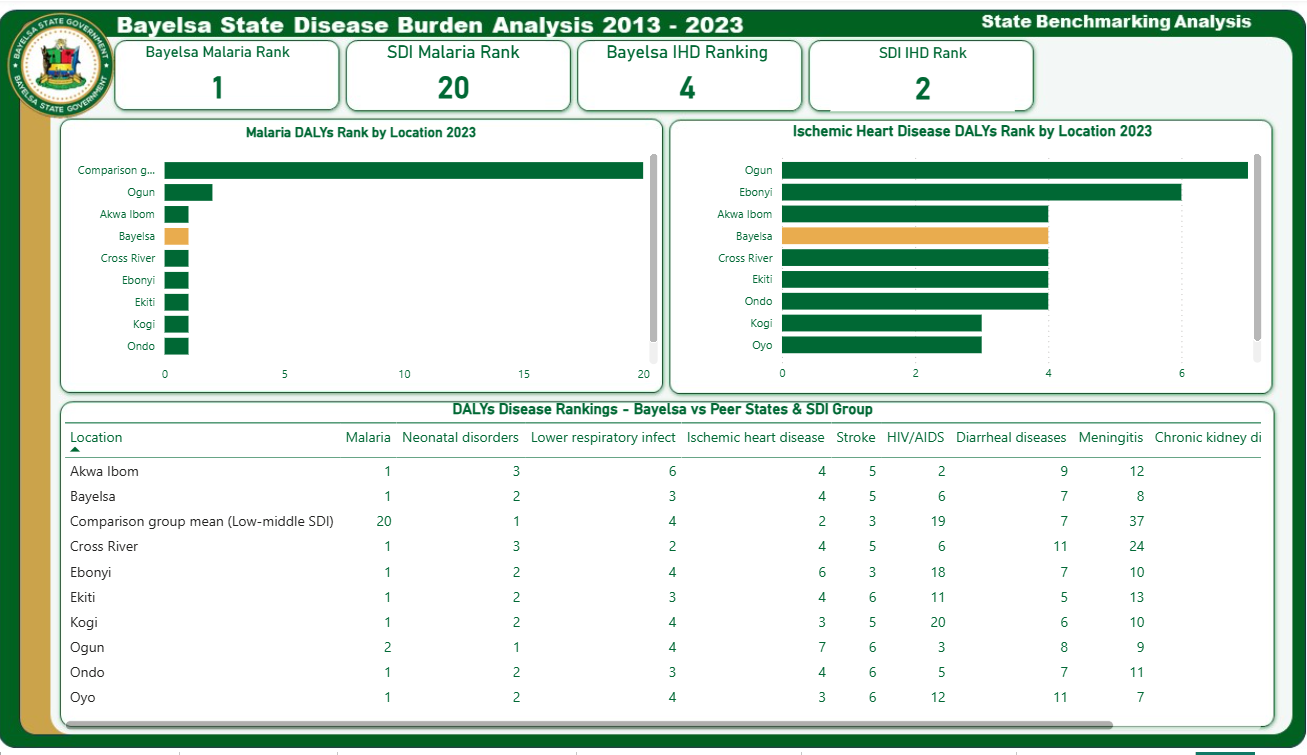

What the dashboard file says about the page in this screenshot:
{"tool":"powerbi","page":{"name":"State Benchmarking","canvas":[1280,720],"ordinal":3},"visuals":[{"type":"card","title":"Bayelsa Malaria Rank","fields":{"Values":["Benchmark_Comparison.Bayelsa Malaria Rank"]},"box":[128,43,176,64],"z":0},{"type":"card","title":"SDI Malaria Rank","fields":{"Values":["Benchmark_Comparison.SDI Malaria Rank"]},"box":[352,42,176,64],"z":1000},{"type":"card","title":"Bayelsa IHD Ranking","fields":{"Values":["Benchmark_Comparison.Bayelsa IHD Rank"]},"box":[576,42,176,64],"z":2000},{"type":"card","title":"SDI IHD Rank","fields":{"Values":["Benchmark_Comparison.SDI IHD Rank"]},"box":[800,44,176,64],"z":3000},{"type":"clusteredBarChart","title":"Malaria DALYs Rank by Location 2023","fields":{"Category":["Benchmark_Comparison.Location"],"Y":["Sum(Benchmark_Comparison.Malaria)"]},"box":[64,120,576,256],"z":4000},{"type":"clusteredBarChart","title":"Ischemic Heart Disease DALYs Rank by Location 2023","fields":{"Category":["Benchmark_Comparison.Location"],"Y":["Sum(Benchmark_Comparison.Ischemic heart disease)"]},"box":[656,119,561,256],"z":5000},{"type":"pivotTable","title":"DALYs Disease Rankings - Bayelsa vs Peer States & SDI Group","fields":{"Values":["Sum(Benchmark_Comparison.Malaria)","Sum(Benchmark_Comparison.Neonatal disorders)","Sum(Benchmark_Comparison.Lower respiratory infect)","Sum(Benchmark_Comparison.Ischemic heart disease)","Sum(Benchmark_Comparison.Stroke)","Sum(Benchmark_Comparison.HIV/AIDS)","Sum(Benchmark_Comparison.Diarrheal diseases)","Sum(Benchmark_Comparison.Meningitis)","Sum(Benchmark_Comparison.Chronic kidney disease)","Sum(Benchmark_Comparison.Tuberculosis)"],"Rows":["Benchmark_Comparison.Location"]},"box":[64,384,1152,320],"z":6000}]}

Visuals, with their boxes in screenshot pixels (x1, y1, x2, y2), scaled from the page's 1280x720 canvas onto the 1307x755 screenshot:
"Bayelsa Malaria Rank" card: {"x1": 131, "y1": 45, "x2": 310, "y2": 112}
"SDI Malaria Rank" card: {"x1": 359, "y1": 44, "x2": 539, "y2": 111}
"Bayelsa IHD Ranking" card: {"x1": 588, "y1": 44, "x2": 768, "y2": 111}
"SDI IHD Rank" card: {"x1": 817, "y1": 46, "x2": 997, "y2": 113}
"Malaria DALYs Rank by Location 2023" clusteredBarChart: {"x1": 65, "y1": 126, "x2": 654, "y2": 394}
"Ischemic Heart Disease DALYs Rank by Location 2023" clusteredBarChart: {"x1": 670, "y1": 125, "x2": 1243, "y2": 393}
"DALYs Disease Rankings - Bayelsa vs Peer States & SDI Group" pivotTable: {"x1": 65, "y1": 403, "x2": 1242, "y2": 738}
